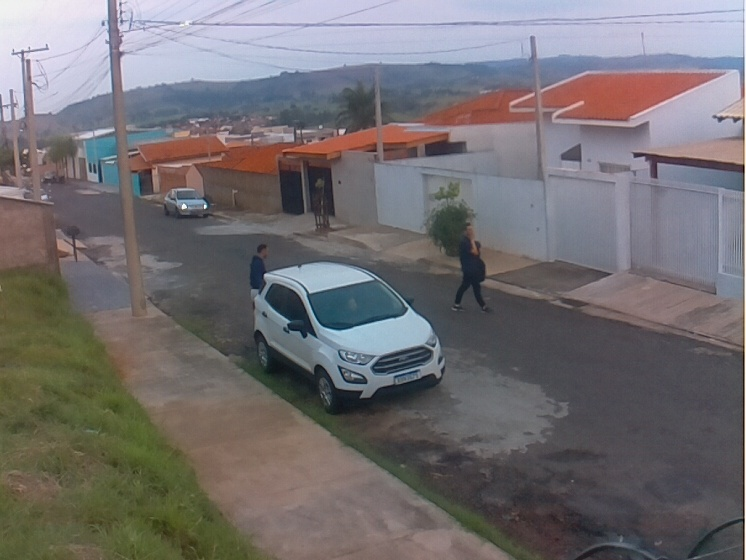person: (451, 223, 494, 315), (247, 243, 271, 306)
